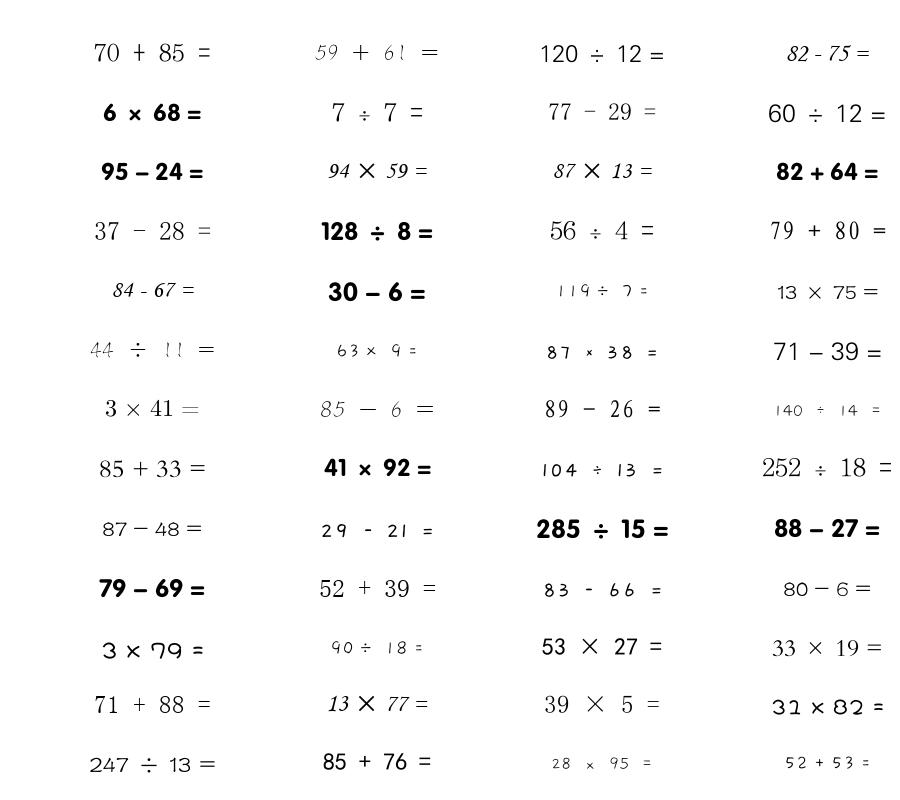MQ: (536, 519, 669, 539), (762, 457, 892, 477), (539, 45, 665, 63), (768, 104, 886, 123), (321, 221, 433, 241), (94, 43, 211, 62), (769, 221, 886, 240), (774, 518, 880, 538), (99, 578, 205, 598), (315, 44, 439, 61), (94, 222, 211, 240), (544, 400, 661, 418), (544, 695, 660, 713), (773, 342, 882, 361), (542, 638, 662, 655), (324, 458, 431, 477), (89, 757, 216, 773), (90, 342, 215, 358), (319, 580, 436, 597), (94, 696, 211, 713), (550, 221, 654, 240), (328, 282, 426, 302), (101, 162, 203, 181), (776, 162, 878, 181), (99, 460, 206, 478), (772, 640, 883, 657), (103, 103, 201, 122), (548, 103, 656, 120), (323, 753, 431, 770), (320, 401, 434, 417), (771, 699, 884, 715), (101, 642, 204, 659), (326, 695, 428, 712), (332, 103, 423, 122), (541, 463, 664, 477), (105, 399, 200, 417), (542, 583, 663, 597), (320, 524, 435, 538), (327, 163, 427, 179), (552, 163, 652, 179), (102, 522, 202, 537), (545, 346, 659, 359), (785, 45, 869, 62), (777, 285, 878, 299), (551, 757, 653, 770), (555, 284, 649, 298), (330, 641, 424, 655), (773, 405, 882, 417), (111, 282, 194, 297), (783, 582, 871, 596), (784, 756, 871, 770), (336, 344, 418, 358)
